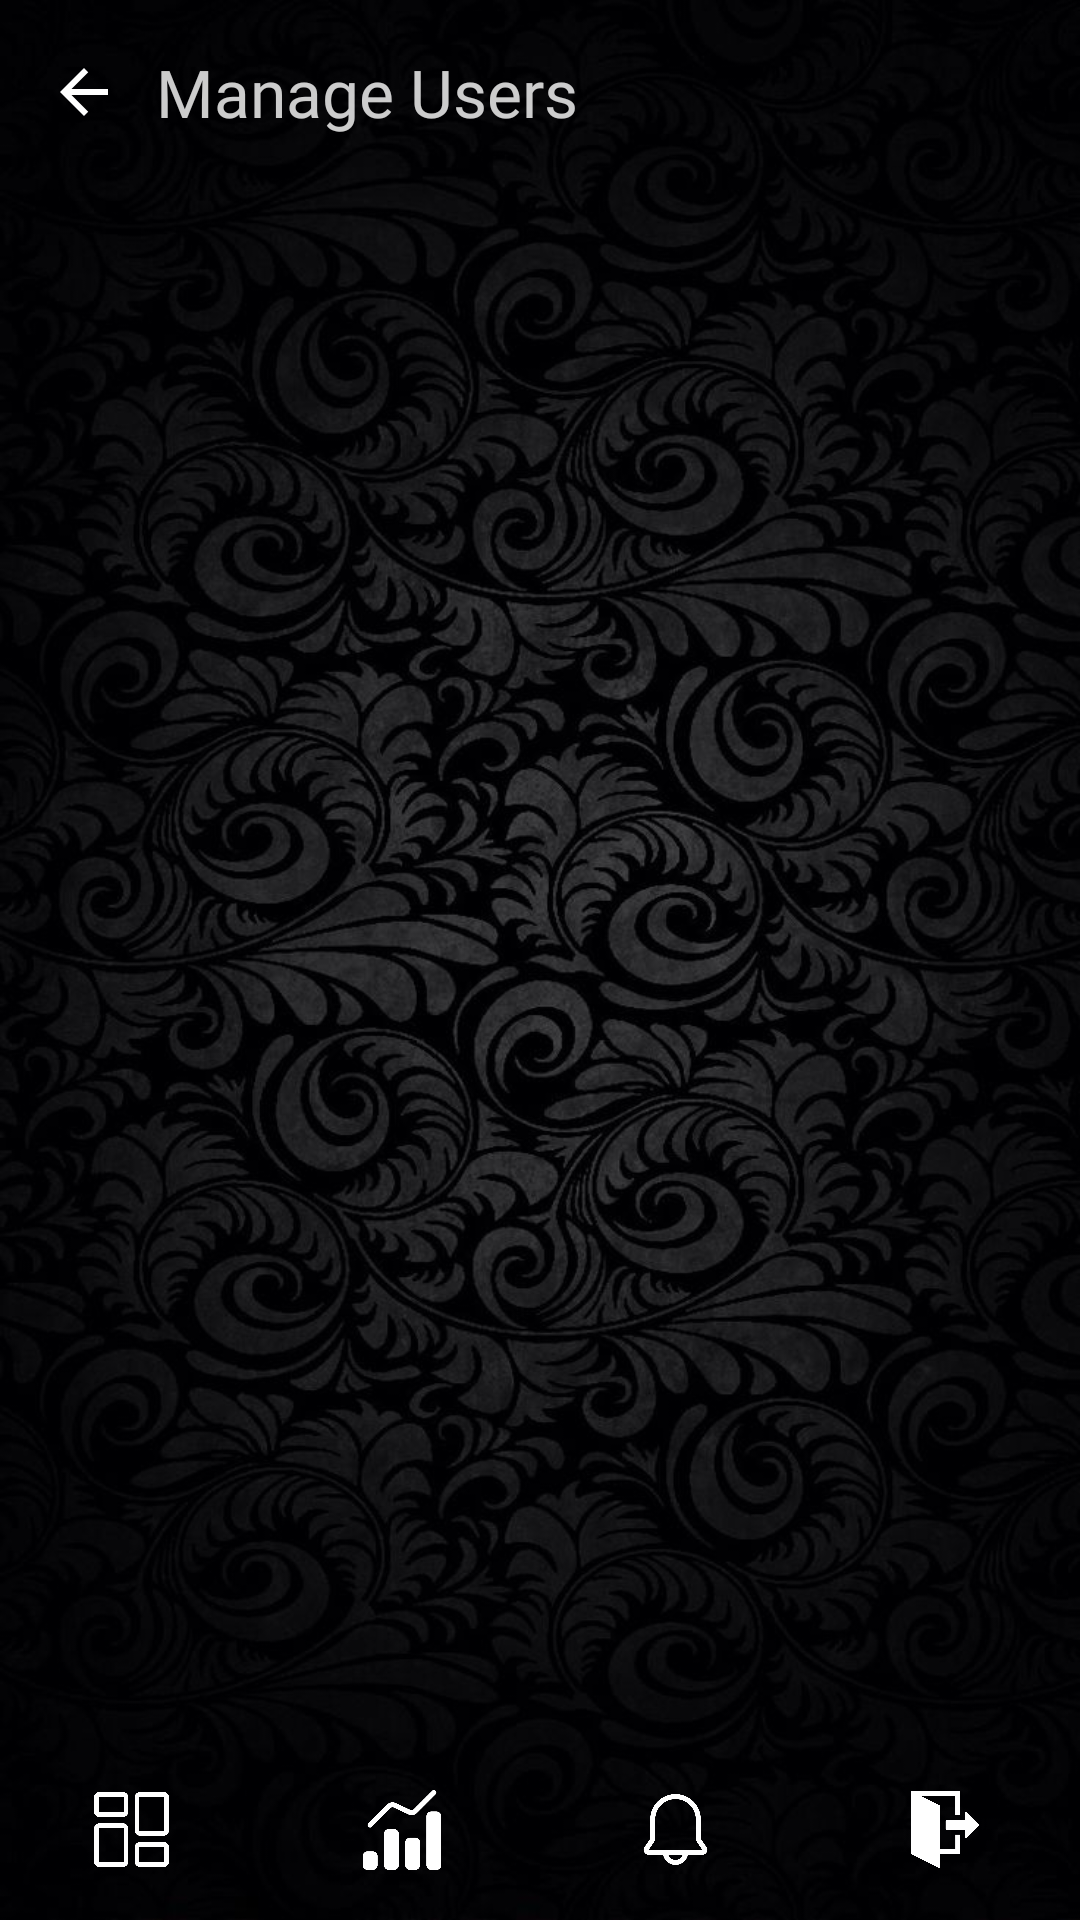

Named icons in this screenshot (1080 × 1920) and their bounding boxes, (x1, y1, x2, y2):
Back Button: (60, 68, 108, 116)
Dashboard: (94, 1792, 169, 1867)
Notifications: (644, 1794, 707, 1865)
Reports: (363, 1790, 441, 1870)
